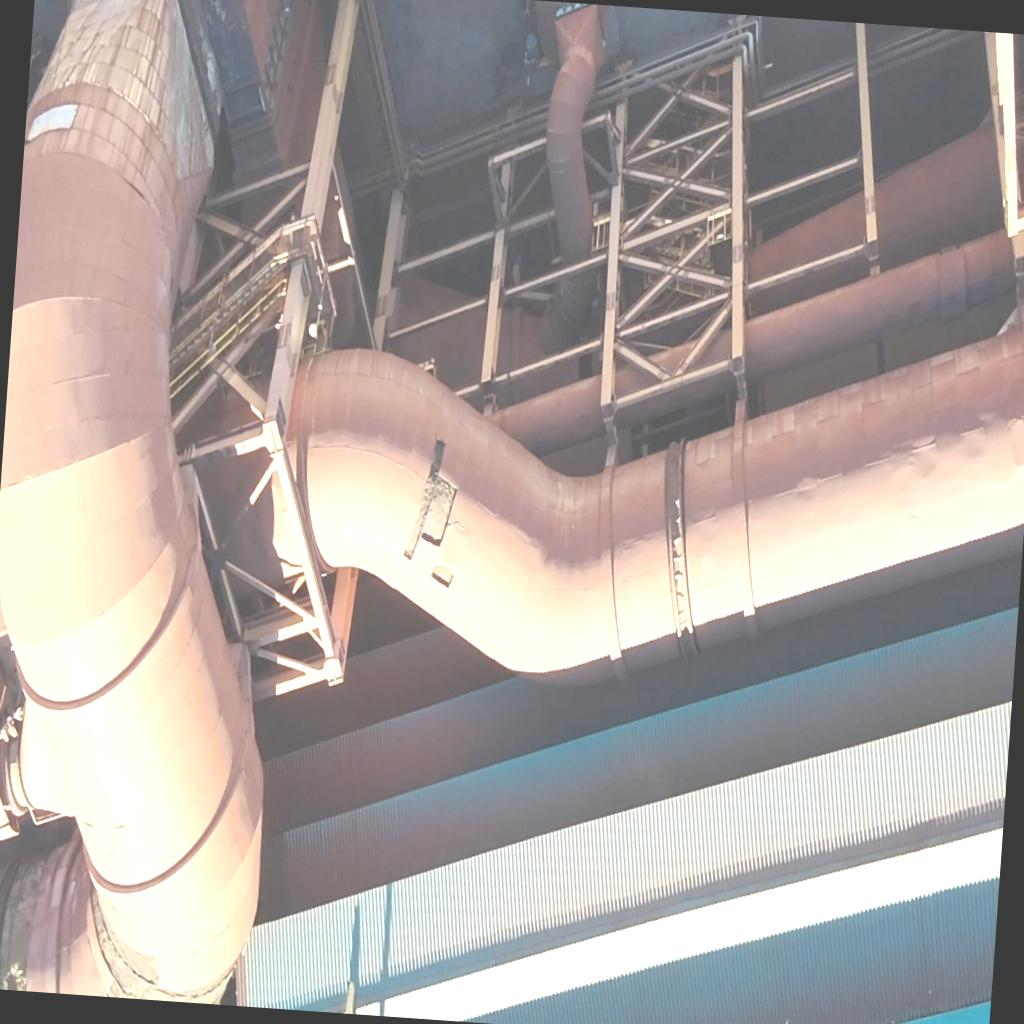Failures: (396, 437, 466, 570), (428, 550, 456, 592)
